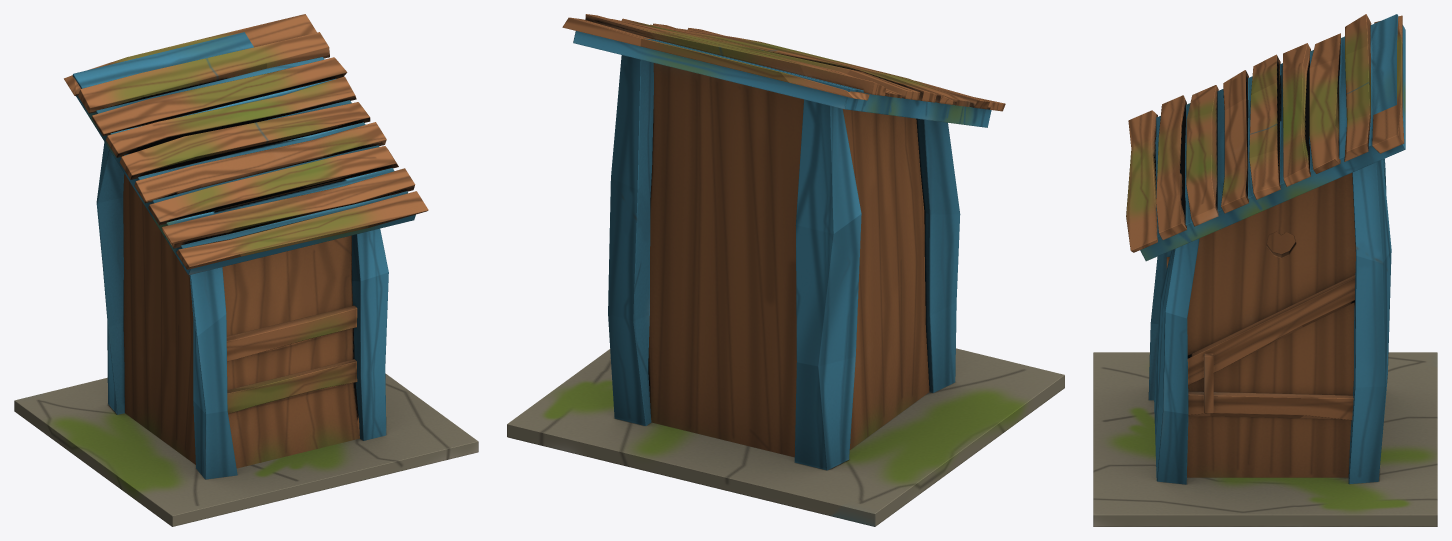
Rendered from BanioText.fbx.
The picture shows the model from 3 angles, left to right: view 1: azimuth 30°, elevation 25°; view 2: azimuth 150°, elevation 25°; view 3: azimuth 270°, elevation 25°; orthographic projection. The views are drawn at different scales.
Parts seen in each view (by area): view 1: Banio; view 2: Banio; view 3: Banio.
Part boxes in pixels (box(x1,y1,x2,y2)): Banio: box(14, 14, 478, 526); Banio: box(507, 14, 1064, 526); Banio: box(1093, 14, 1437, 526).
Size of the model in its own units: 3.86 by 4.14 by 3.45.
1 material, 1 textured.
